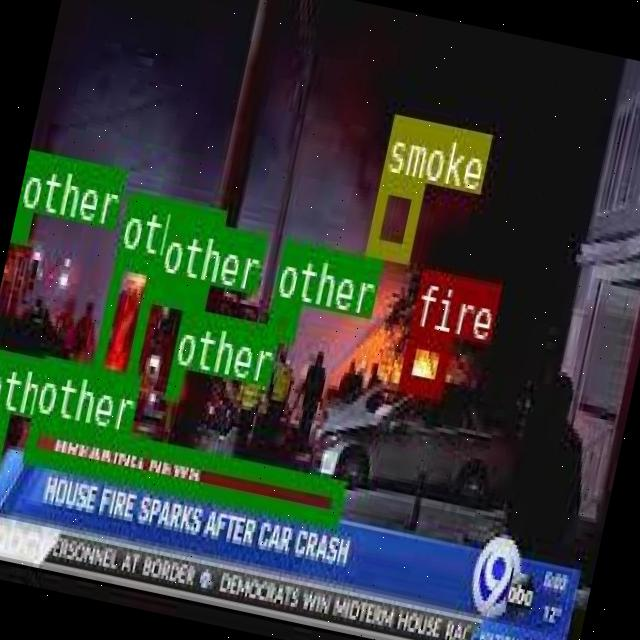fire: (397, 326, 452, 394)
smoke: (366, 170, 424, 260)
